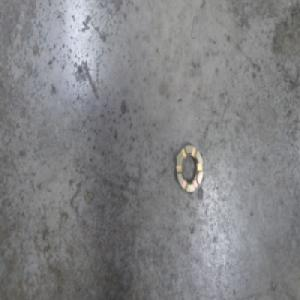Nut: (175, 140, 204, 196)
